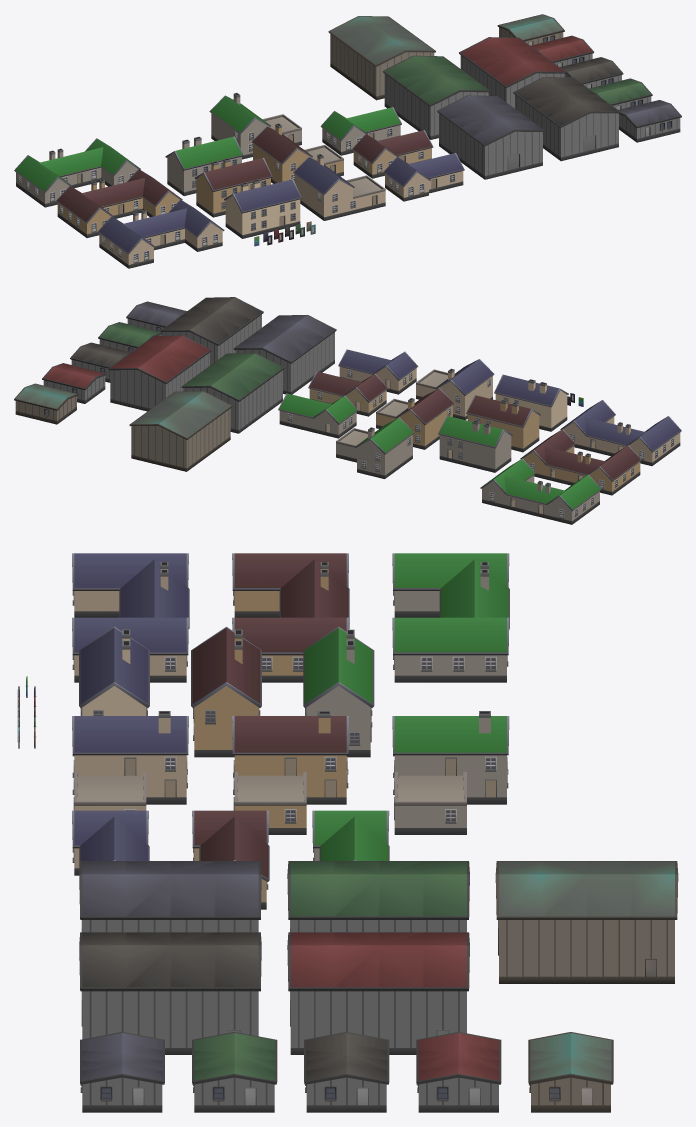
Rendered from city_buildings_22_pack.glb.
3 renders of one model, top to bottom at view 1: azimuth 30°, elevation 25°; view 2: azimuth 150°, elevation 25°; view 3: azimuth 270°, elevation 25°, orthographic. The views are drawn at different scales.
Visible parts, largest first — view 1: Object_2, Object_3; view 2: Object_2, Object_3; view 3: Object_2, Object_3.
Boxes of the visible parts, x1,y1,x2,y2 form: Object_2: (14,14,681,268); Object_3: (19,36,671,259); Object_2: (14,297,681,524); Object_3: (45,327,672,515); Object_2: (17,553,678,1112); Object_3: (94,658,559,1098).
Size of the model in its own units: 154 by 11.5 by 82.47.
Materials: 2 (1 with a texture image).
